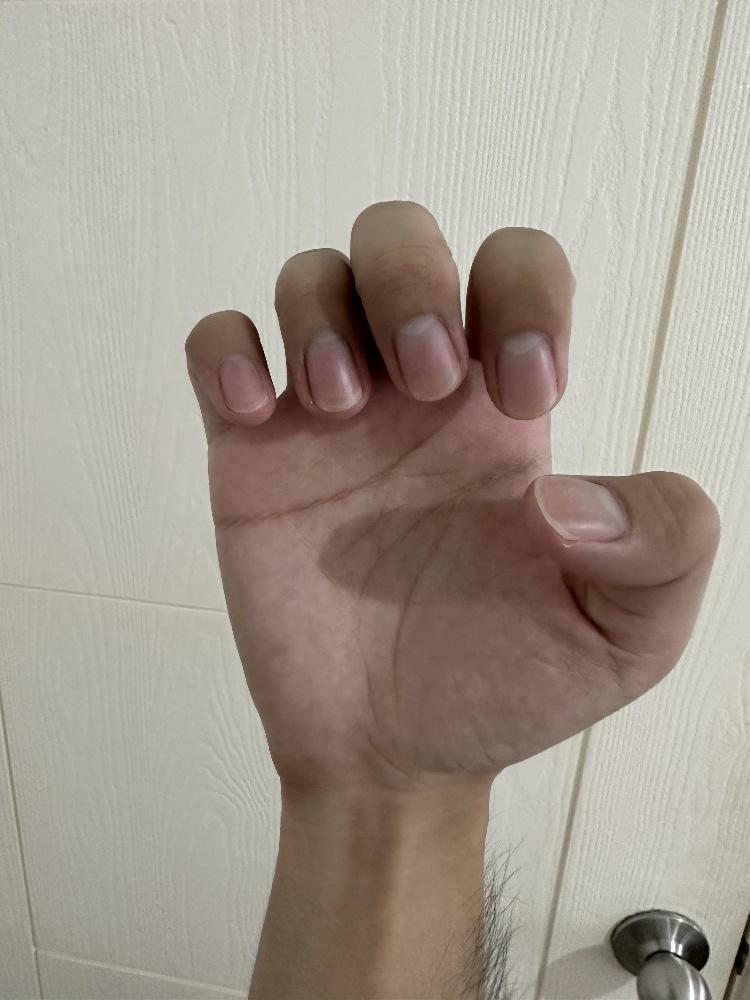e: (180, 196, 722, 787)
